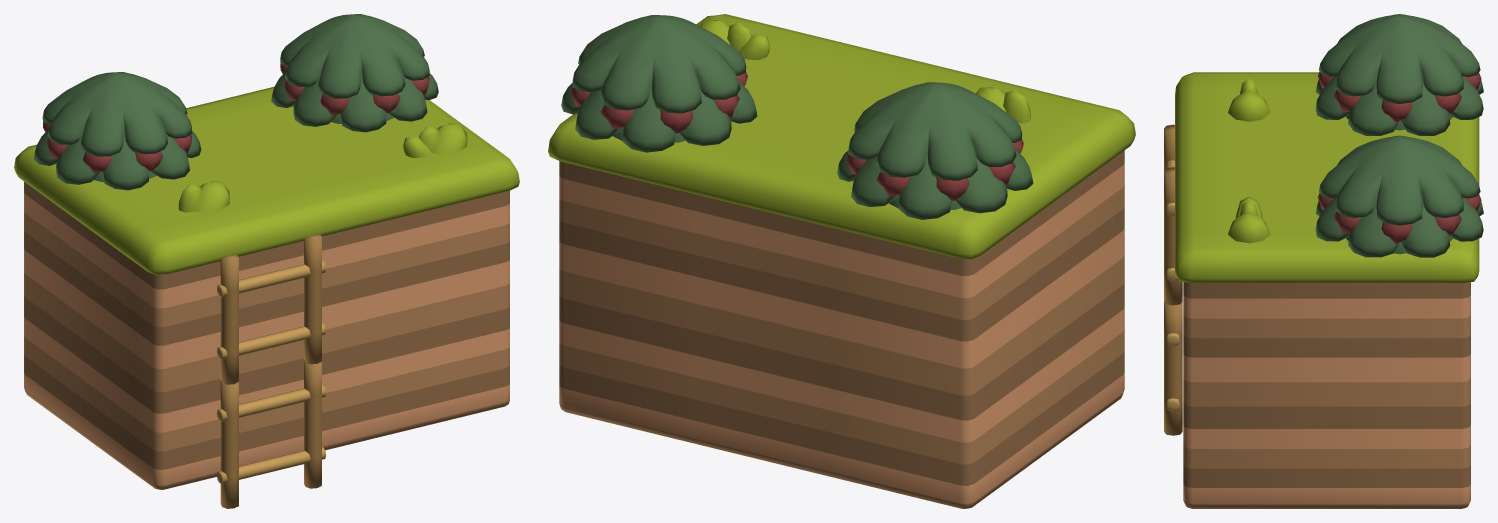
File: tile_1.glb
3 views of the same model, side by side, from view 1: azimuth 30°, elevation 25°; view 2: azimuth 150°, elevation 25°; view 3: azimuth 270°, elevation 25° (orthographic). The views are drawn at different scales.
Visible parts, largest first — view 1: Cube_Grass_Side_Tall.015, Bush_Fruit.002, Bush_Fruit.003, Stairs.001, Stairs, Grass_3.009, Grass_3.010; view 2: Cube_Grass_Side_Tall.015, Bush_Fruit.002, Bush_Fruit.003, Grass_3.009, Grass_3.010; view 3: Cube_Grass_Side_Tall.015, Bush_Fruit.002, Bush_Fruit.003, Stairs, Stairs.001, Grass_3.009, Grass_3.010.
Part boxes in pixels (box(x1,y1,x2,y2)): Cube_Grass_Side_Tall.015: box(14, 86, 519, 489); Bush_Fruit.002: box(271, 14, 438, 132); Bush_Fruit.003: box(33, 72, 201, 190); Stairs.001: box(217, 234, 325, 384); Stairs: box(217, 360, 325, 508); Grass_3.009: box(403, 123, 467, 157); Grass_3.010: box(178, 181, 230, 212); Cube_Grass_Side_Tall.015: box(548, 14, 1135, 508); Bush_Fruit.002: box(561, 15, 757, 152); Bush_Fruit.003: box(837, 82, 1033, 219); Grass_3.009: box(700, 20, 769, 60); Grass_3.010: box(976, 87, 1030, 123); Cube_Grass_Side_Tall.015: box(1175, 72, 1479, 508); Bush_Fruit.002: box(1315, 135, 1483, 257); Bush_Fruit.003: box(1315, 14, 1483, 135); Stairs: box(1164, 302, 1182, 435); Stairs.001: box(1164, 124, 1182, 305); Grass_3.009: box(1228, 196, 1270, 243); Grass_3.010: box(1228, 78, 1270, 121).
Bounding box in the file's own units: 6.35 × 5.68 × 4.45.
